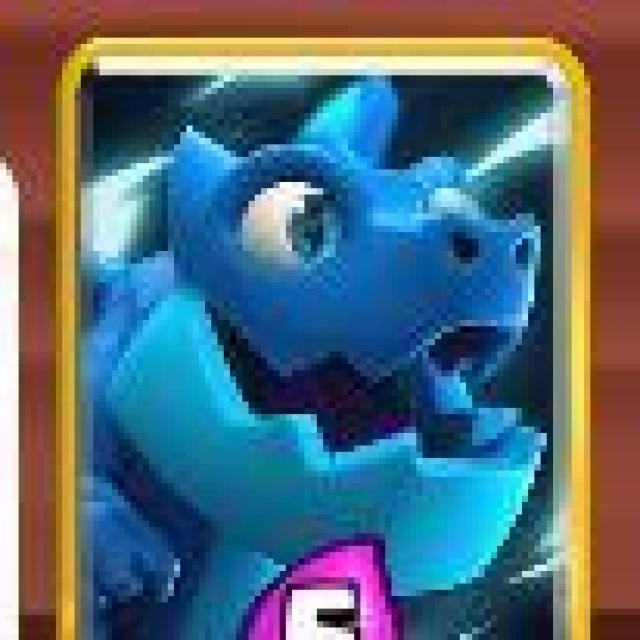Electro_Dragon: (54, 39, 589, 640)
